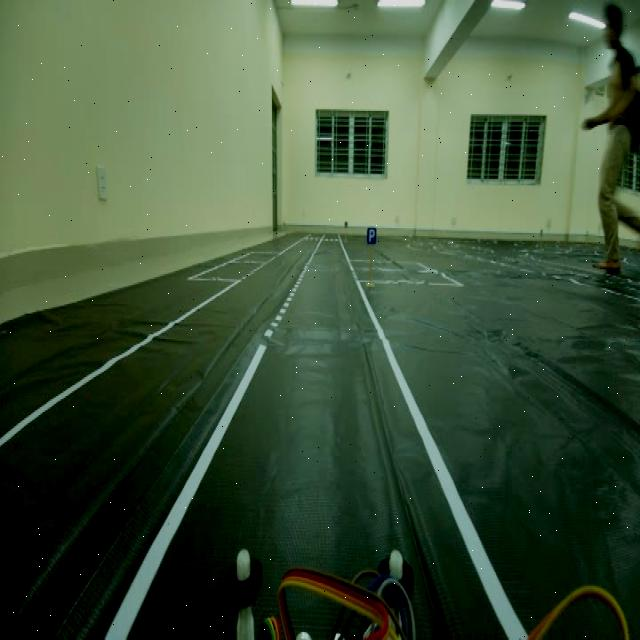parking: (364, 223, 381, 249)
